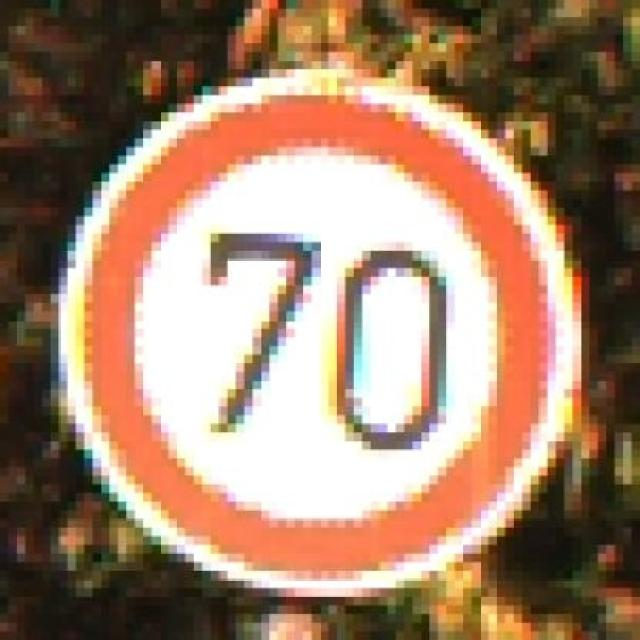forb_speed_over_70: (67, 80, 568, 588)
